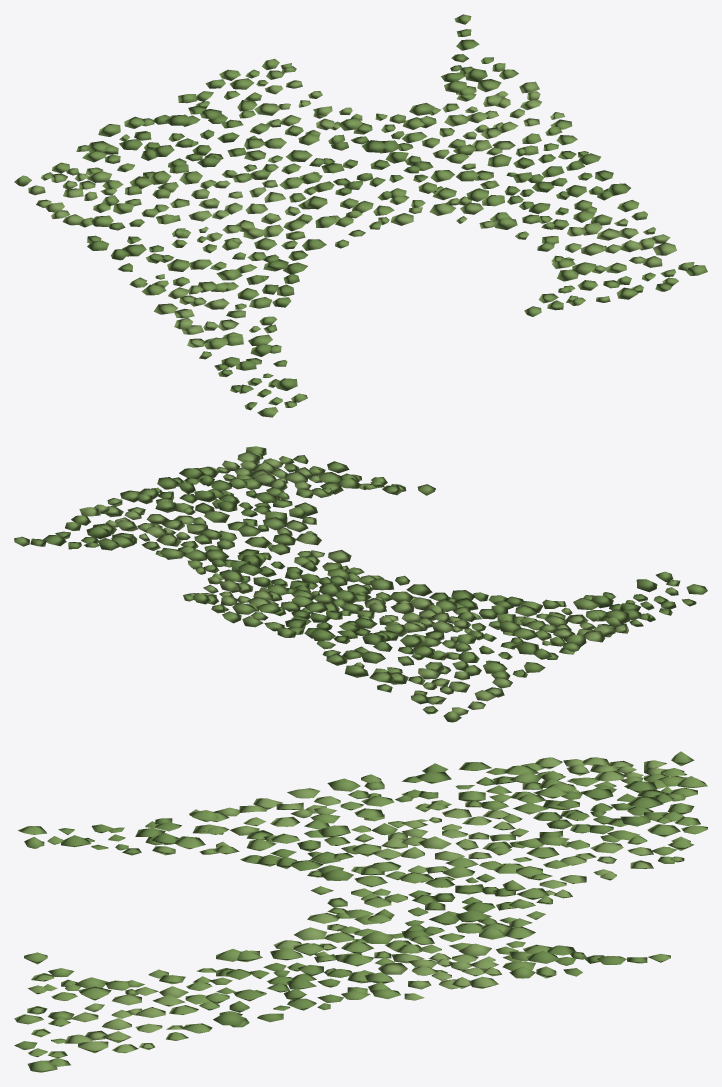
File: canopy-1--4--3.glb
The picture shows the model from 3 angles, top to bottom: view 1: azimuth 30°, elevation 25°; view 2: azimuth 150°, elevation 25°; view 3: azimuth 270°, elevation 25°; orthographic projection. The views are drawn at different scales.
Bounding box in the file's own units: 518 × 135 × 515.
Materials: 1 (1 with a texture image).
